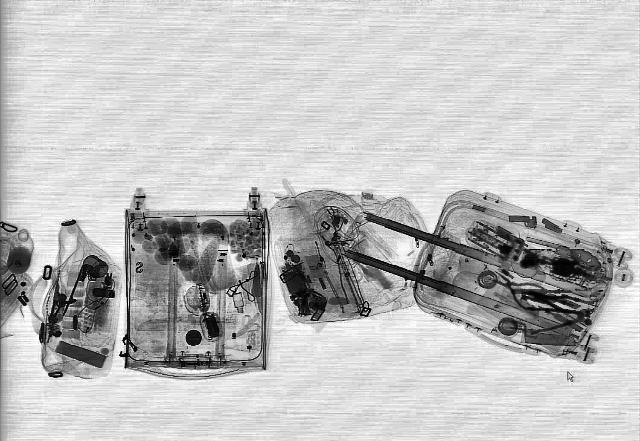Pliers: (481, 265, 554, 310)
